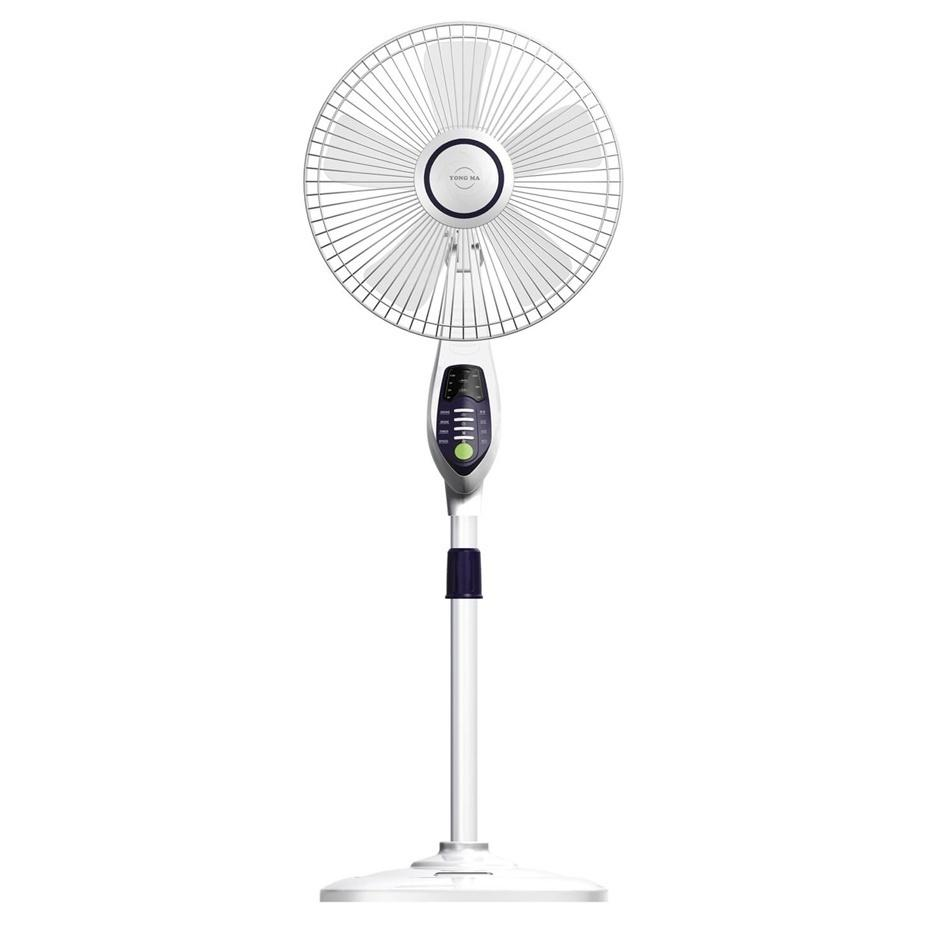fan: (256, 11, 612, 927)
